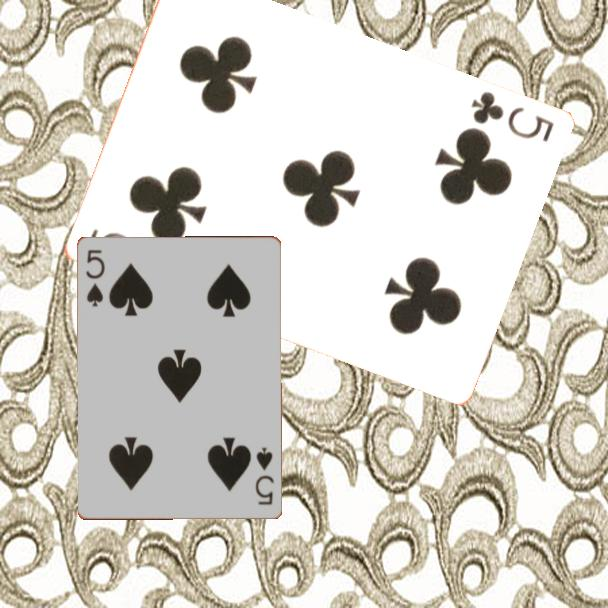c05: (467, 88, 556, 145)
s05: (82, 246, 108, 309), (252, 444, 277, 508)
